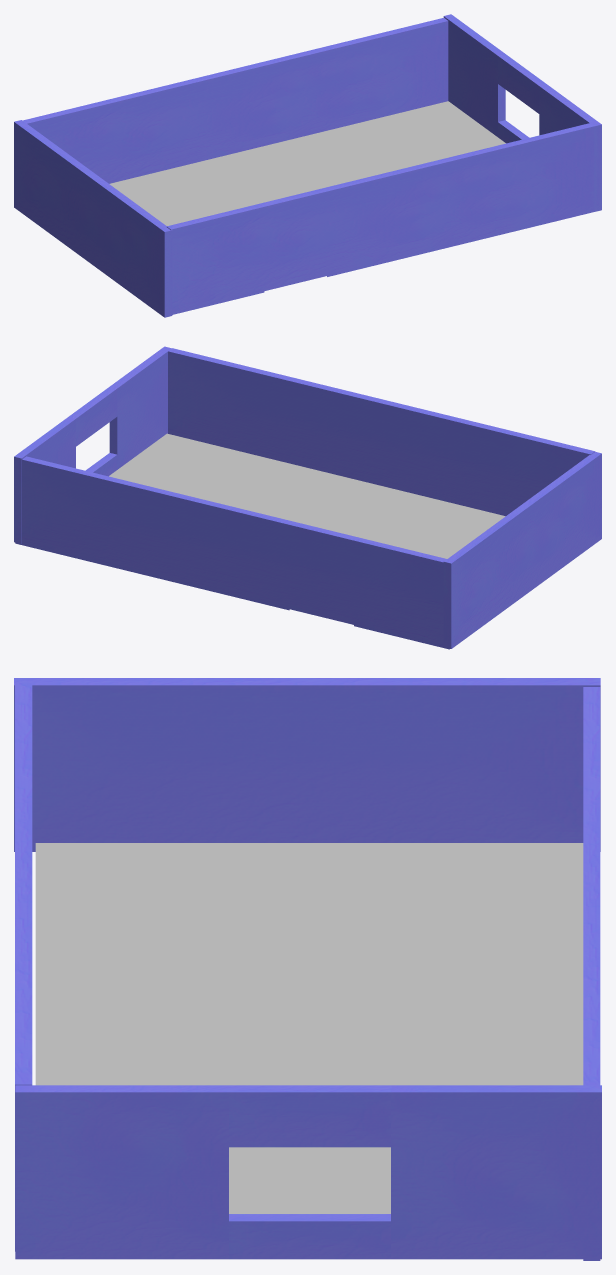
The model's file is ruang_tengah.fbx.
3 renders of one model, top to bottom at view 1: azimuth 30°, elevation 25°; view 2: azimuth 150°, elevation 25°; view 3: azimuth 270°, elevation 25°, orthographic. The views are drawn at different scales.
Visible parts, largest first — view 1: M_Badroom_Tembok3, M_Badroom_Tembok3__1_, M_Badroom_LantaiTengah, M_Badroom_Tembok2, M_Badroom_Tembok4; view 2: M_Badroom_Tembok3__1_, M_Badroom_Tembok3, M_Badroom_LantaiTengah, M_Badroom_Tembok2, M_Badroom_Tembok4; view 3: M_Badroom_LantaiTengah, M_Badroom_Tembok4, M_Badroom_Tembok2, M_Badroom_Tembok3, M_Badroom_Tembok3__1_.
Part boxes in pixels (left/top/right/bottom): M_Badroom_Tembok3: left=166, top=123, right=594, bottom=314; M_Badroom_Tembok3__1_: left=23, top=18, right=448, bottom=183; M_Badroom_LantaiTengah: left=109, top=101, right=505, bottom=225; M_Badroom_Tembok2: left=14, top=120, right=172, bottom=317; M_Badroom_Tembok4: left=443, top=14, right=601, bottom=211; M_Badroom_Tembok3__1_: left=15, top=456, right=449, bottom=649; M_Badroom_Tembok3: left=168, top=348, right=595, bottom=516; M_Badroom_LantaiTengah: left=109, top=433, right=505, bottom=558; M_Badroom_Tembok2: left=443, top=452, right=601, bottom=648; M_Badroom_Tembok4: left=14, top=346, right=171, bottom=543; M_Badroom_LantaiTengah: left=35, top=843, right=583, bottom=1213; M_Badroom_Tembok4: left=15, top=1085, right=601, bottom=1259; M_Badroom_Tembok2: left=14, top=678, right=600, bottom=851; M_Badroom_Tembok3: left=15, top=683, right=32, bottom=1251; M_Badroom_Tembok3__1_: left=583, top=687, right=600, bottom=1260.
Bounding box in the file's own units: 1443 × 275 × 863.
